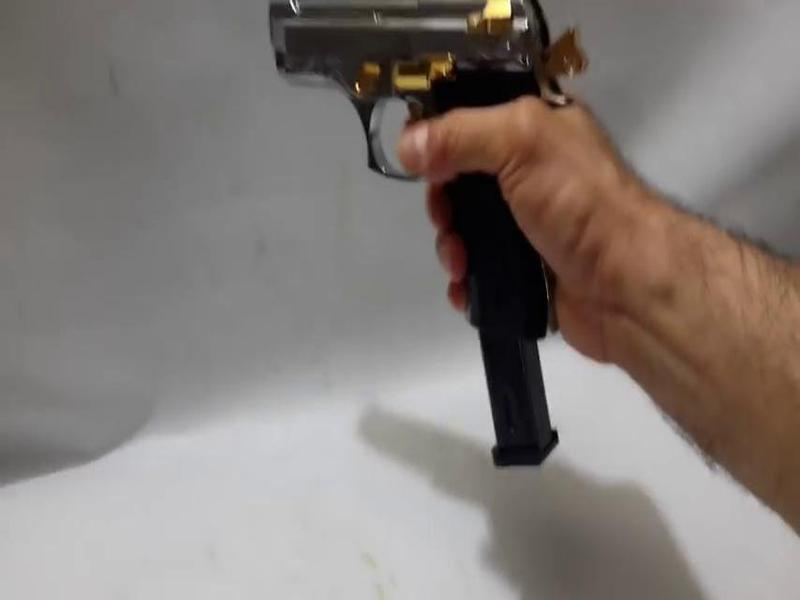Pistola: (205, 1, 613, 343)
